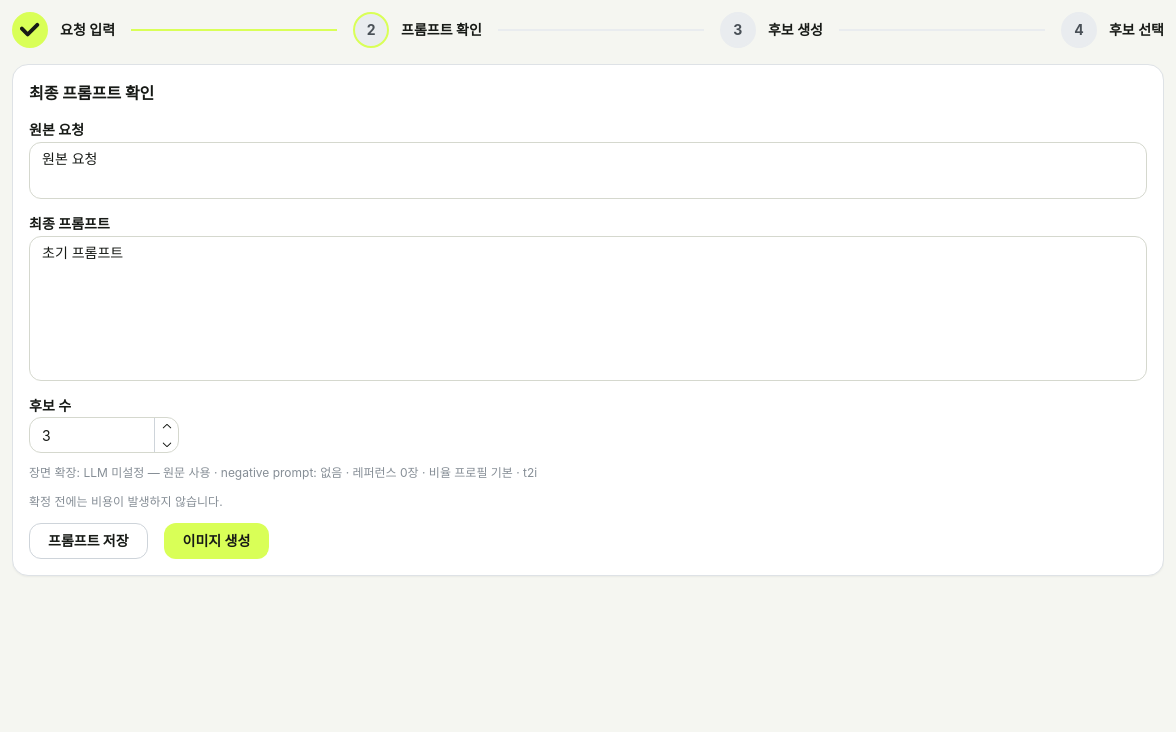
Test case: image generation wizard › does not confirm generation when saving the draft fails
This screenshot has width=1176, height=732.
Click the button "이미지 생성". click: (216, 541)
box: [164,523,269,559]
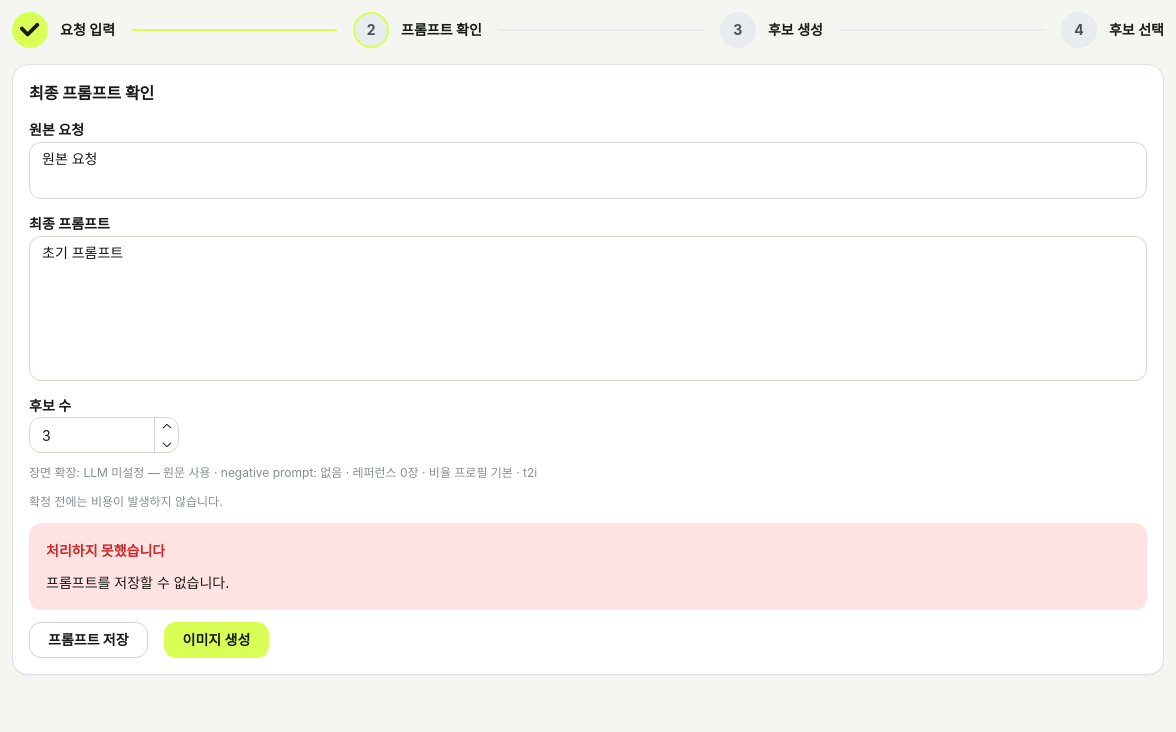
Expected: the text "프롬프트를 저장할 수 없습니다." is shown, [46,574,229,591]
